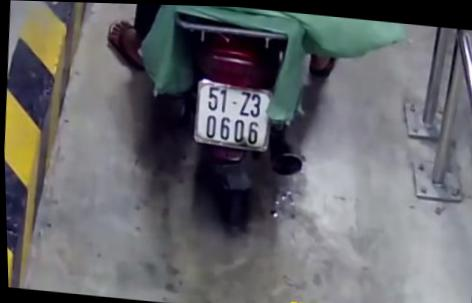LP: (190, 75, 276, 149)
